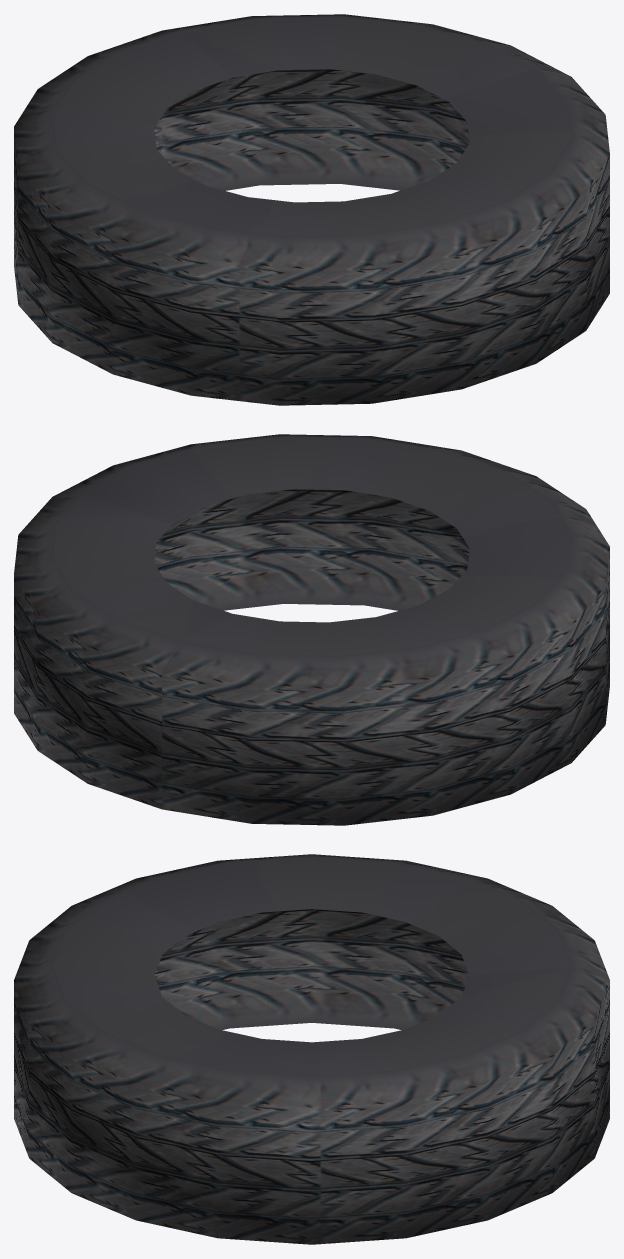
Rendered from tire.obj.
The picture shows the model from 3 angles, top to bottom: view 1: azimuth 30°, elevation 25°; view 2: azimuth 150°, elevation 25°; view 3: azimuth 270°, elevation 25°; orthographic projection.
Visible parts, largest first — view 1: Object02; view 2: Object02; view 3: Object02.
Boxes of the visible parts, x1,y1,x2,y2 form: Object02: [14, 14, 609, 405]; Object02: [14, 434, 609, 825]; Object02: [14, 854, 609, 1244].
Bounding box in the file's own units: 0.668 × 0.205 × 0.668.
Materials: 2 (2 with a texture image).
